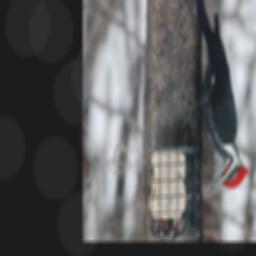Woodpecker: (181, 0, 248, 193)
